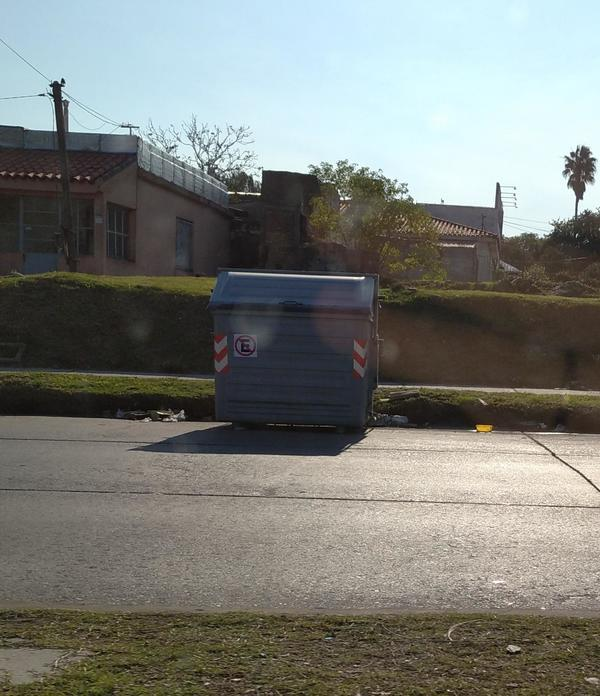Dechets: (374, 395, 428, 428), (467, 408, 504, 441), (116, 408, 186, 423)
Trash: (209, 270, 377, 430)
